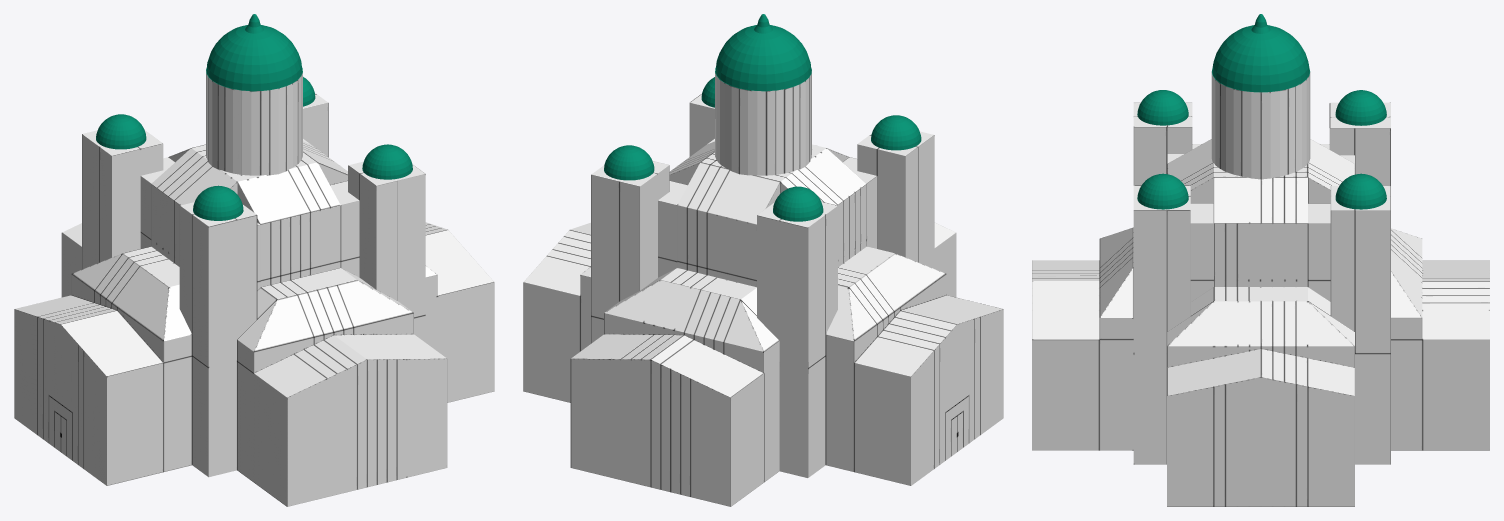
Rendered from white_house.fbx.
The picture shows the model from 3 angles, left to right: view 1: azimuth 30°, elevation 25°; view 2: azimuth 150°, elevation 25°; view 3: azimuth 270°, elevation 25°; orthographic projection.
Parts seen in each view (by area): view 1: Cube; view 2: Cube; view 3: Cube.
Boxes of the visible parts, x1=… form: Cube: x1=14, y1=14, x2=494, y2=506; Cube: x1=523, y1=14, x2=1003, y2=506; Cube: x1=1032, y1=14, x2=1489, y2=506.
Bounding box in the file's own units: 14044 × 13942 × 13439.
Materials: 1 (1 with a texture image).
